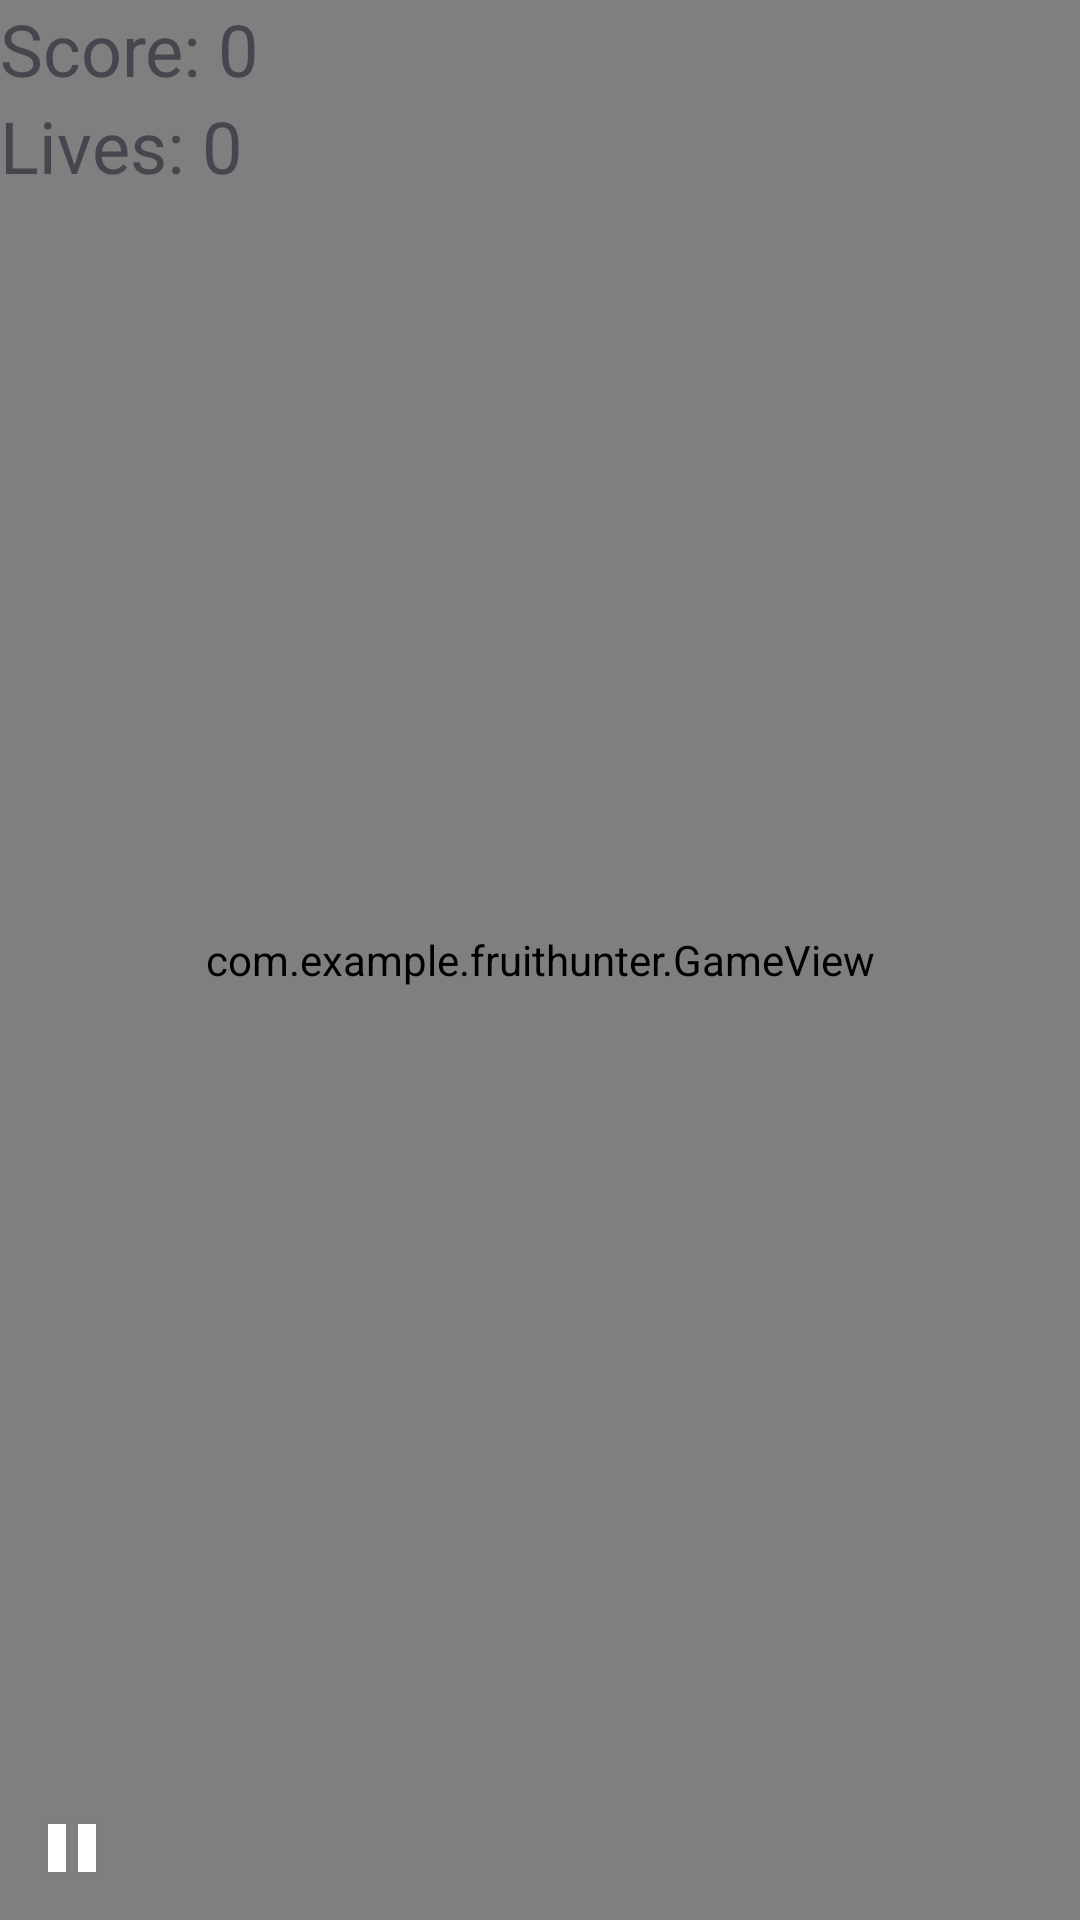

Screen size 1080x1920. Icon name, then its box in pixels as (x1, y1, x2, y2):
pause: (48, 1824, 96, 1872)
